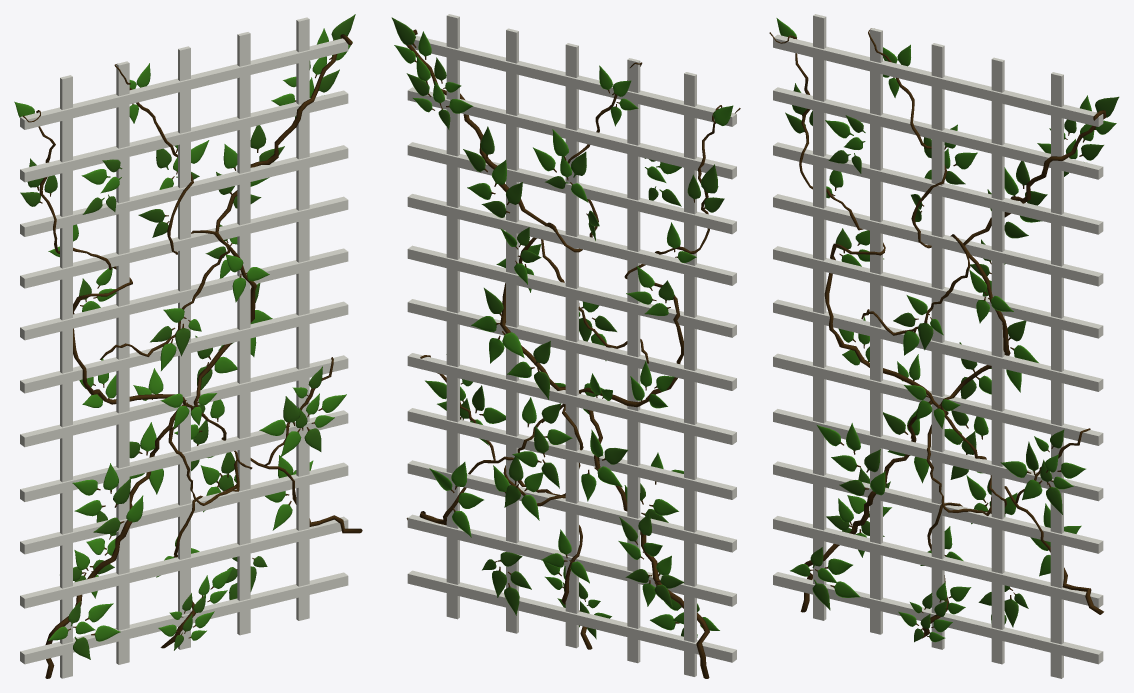
Rendered from vines_1.fbx.
The picture shows the model from 3 angles, left to right: view 1: azimuth 30°, elevation 25°; view 2: azimuth 150°, elevation 25°; view 3: azimuth 330°, elevation 25°; orthographic projection.
Visible parts, largest first — view 1: 1_vinestem-01.005; view 2: 1_vinestem-01.005; view 3: 1_vinestem-01.005.
Part boxes in pixels (x1,y1,x2,y2): 1_vinestem-01.005: (14, 14, 362, 678); 1_vinestem-01.005: (391, 14, 740, 678); 1_vinestem-01.005: (769, 14, 1119, 678).
Size of the model in its own units: 403 by 676 by 45.1.
